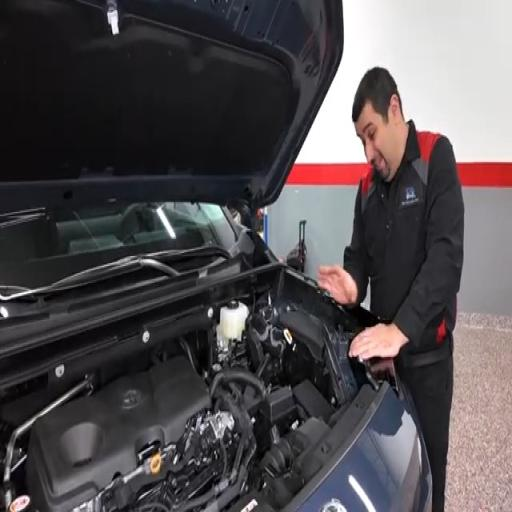bumper: (298, 387, 431, 511)
emblem: (122, 390, 142, 409), (320, 500, 347, 511)
hood: (0, 0, 343, 211)
windshield: (0, 202, 235, 288)
